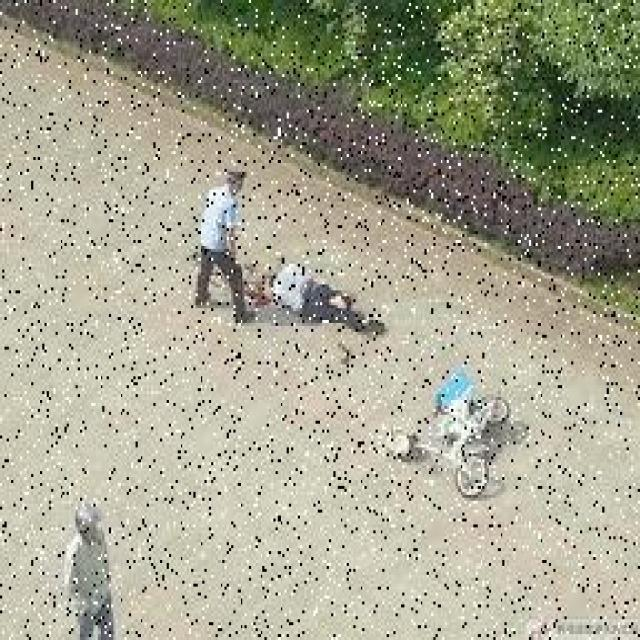fall: (258, 264, 387, 338)
